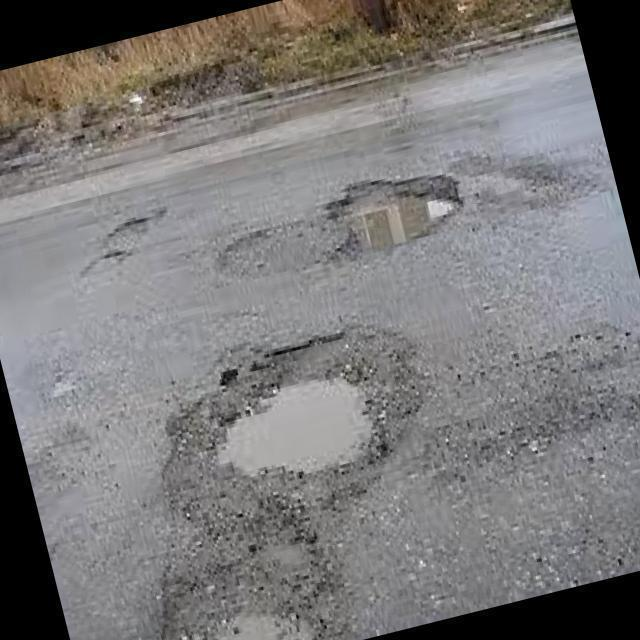pothole: (168, 333, 422, 507), (172, 516, 340, 640), (320, 149, 468, 261), (80, 202, 152, 275)
